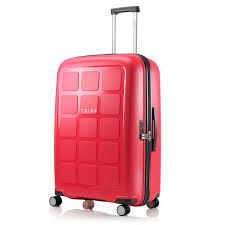suitcase: (46, 4, 164, 217)
